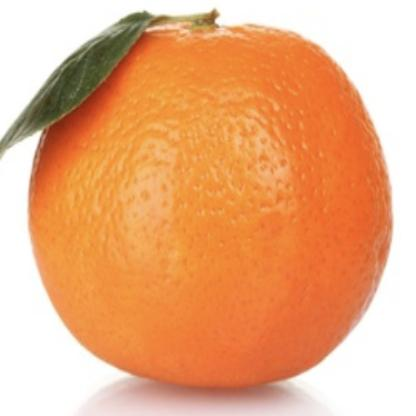fresh: (29, 16, 393, 389)
